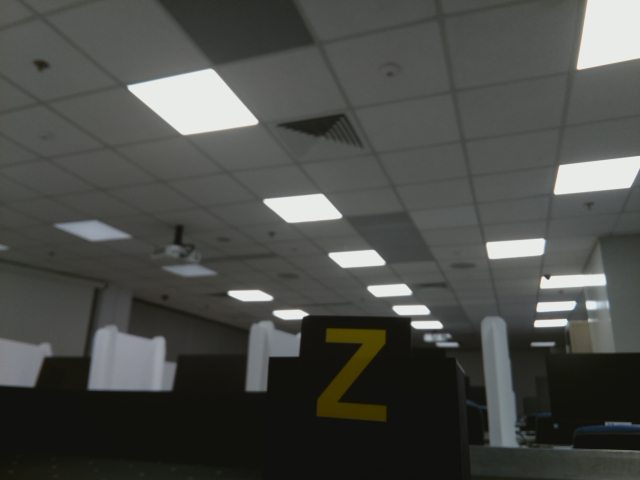z: (318, 325, 391, 427)
